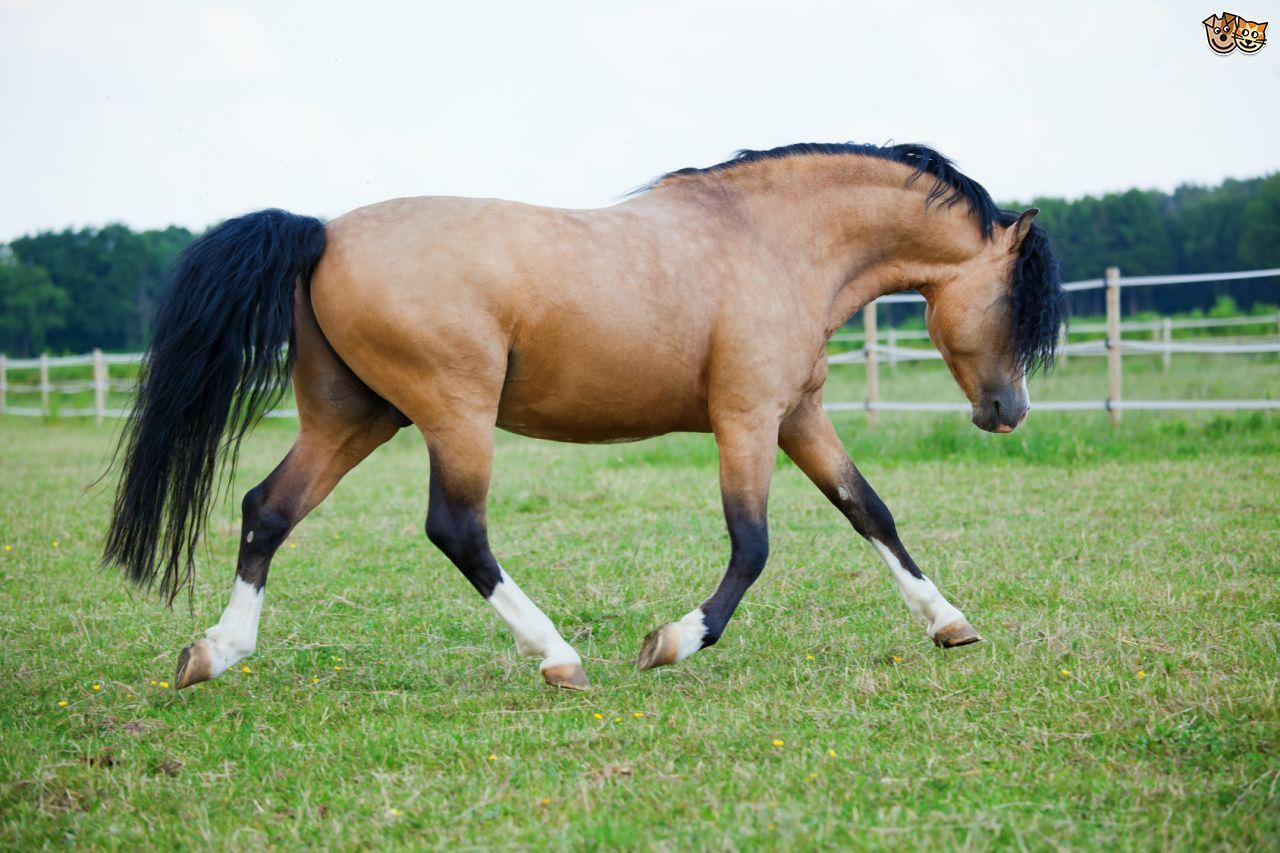horse: (93, 120, 1083, 700)
